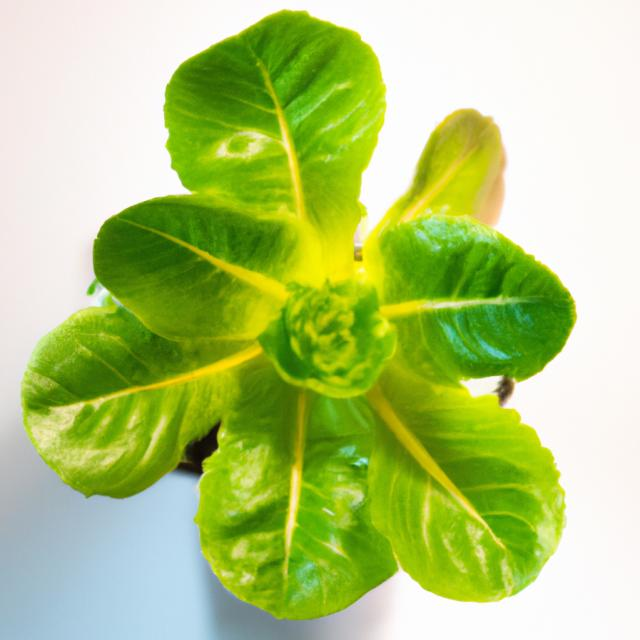-N: (12, 0, 602, 636)
